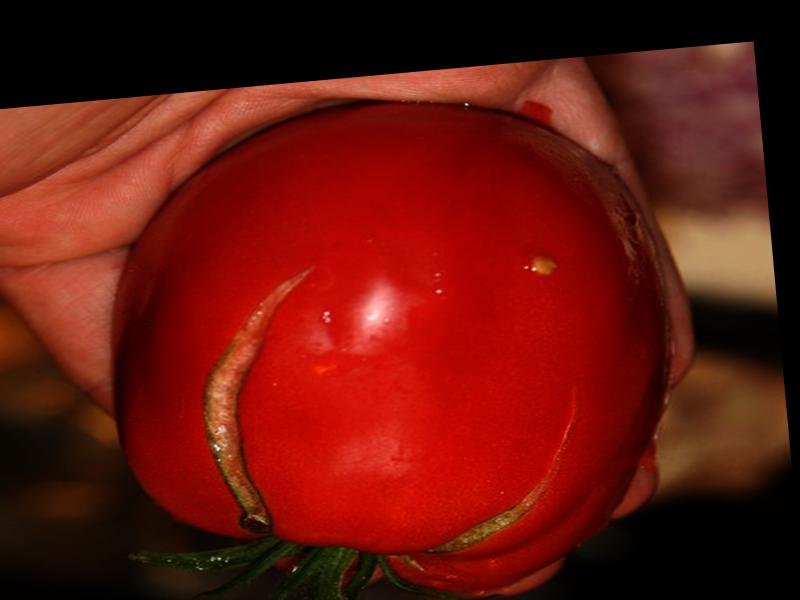Tomato: (98, 78, 689, 600)
